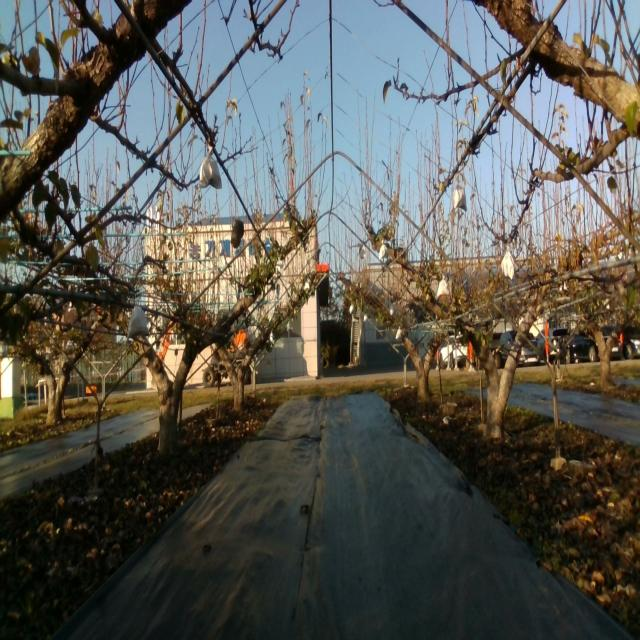pearbags: (197, 144, 223, 191), (127, 303, 150, 340), (453, 182, 468, 214), (500, 250, 515, 280), (437, 274, 450, 300)
